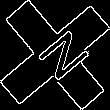N_SW: (23, 23, 87, 87)
